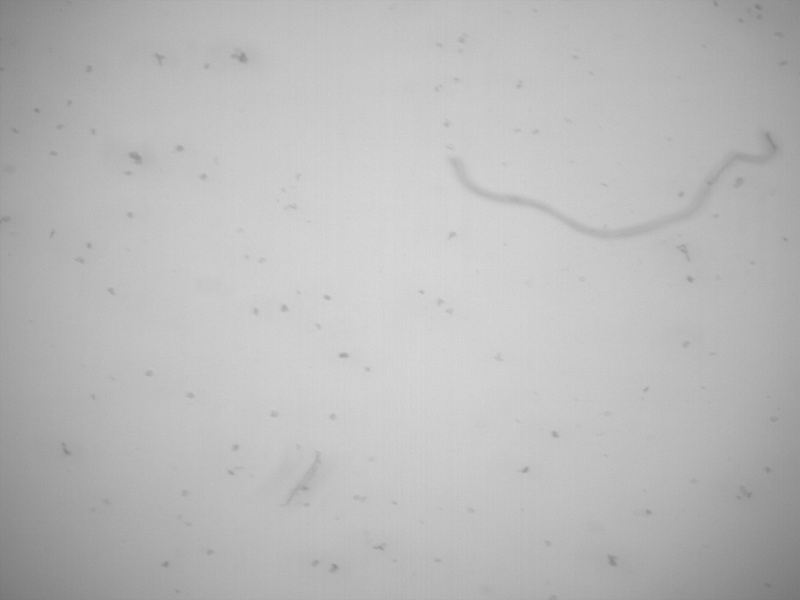fiber: (445, 130, 785, 240)
